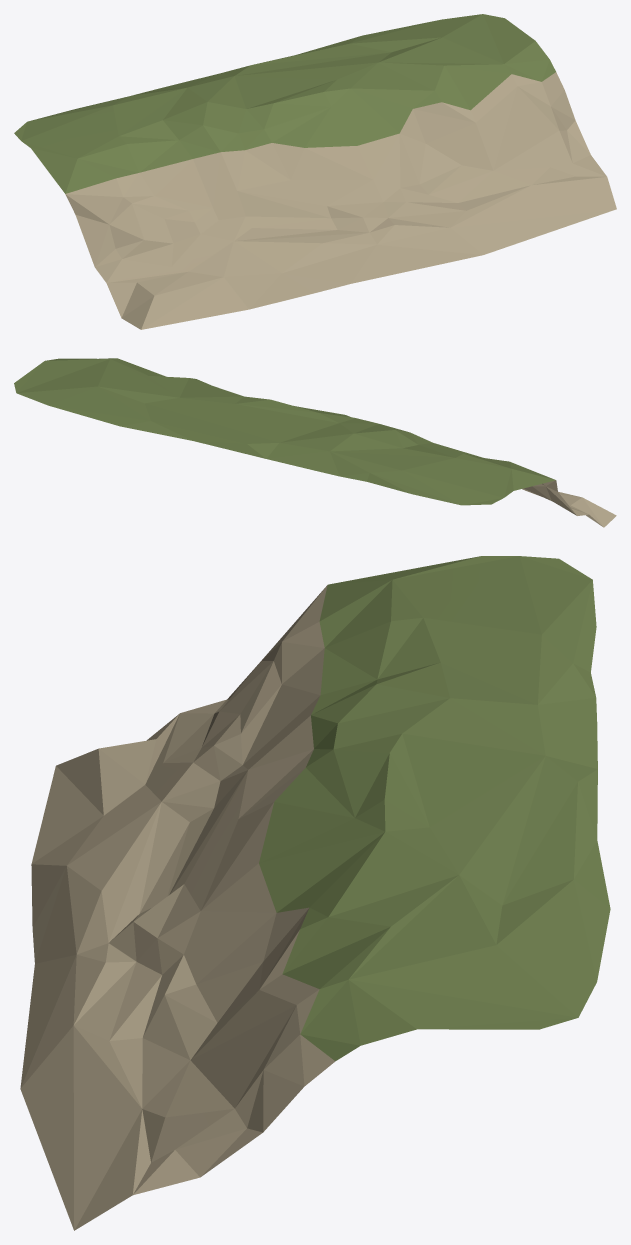
The model's file is SM_Terrain_RiverSide_01.glb.
3 views of the same model, one above another, from view 1: azimuth 30°, elevation 25°; view 2: azimuth 150°, elevation 25°; view 3: azimuth 270°, elevation 25° (orthographic). The views are drawn at different scales.
Visible parts, largest first — view 1: SM_Terrain_RiverSide_01; view 2: SM_Terrain_RiverSide_01; view 3: SM_Terrain_RiverSide_01.
Part boxes in pixels (bbox=[...]): SM_Terrain_RiverSide_01: bbox=[14, 14, 616, 329]; SM_Terrain_RiverSide_01: bbox=[14, 358, 616, 527]; SM_Terrain_RiverSide_01: bbox=[20, 556, 610, 1230].
Bounding box in the file's own units: 8.66 × 1.93 × 4.51.
1 material, 1 textured.
